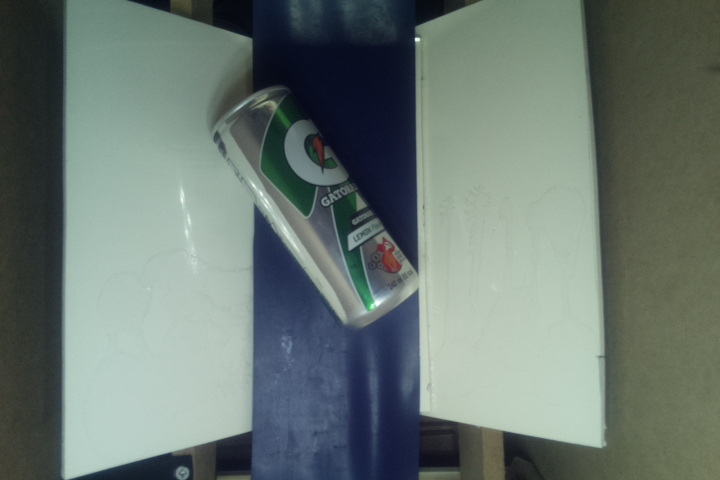can: (213, 85, 421, 329)
